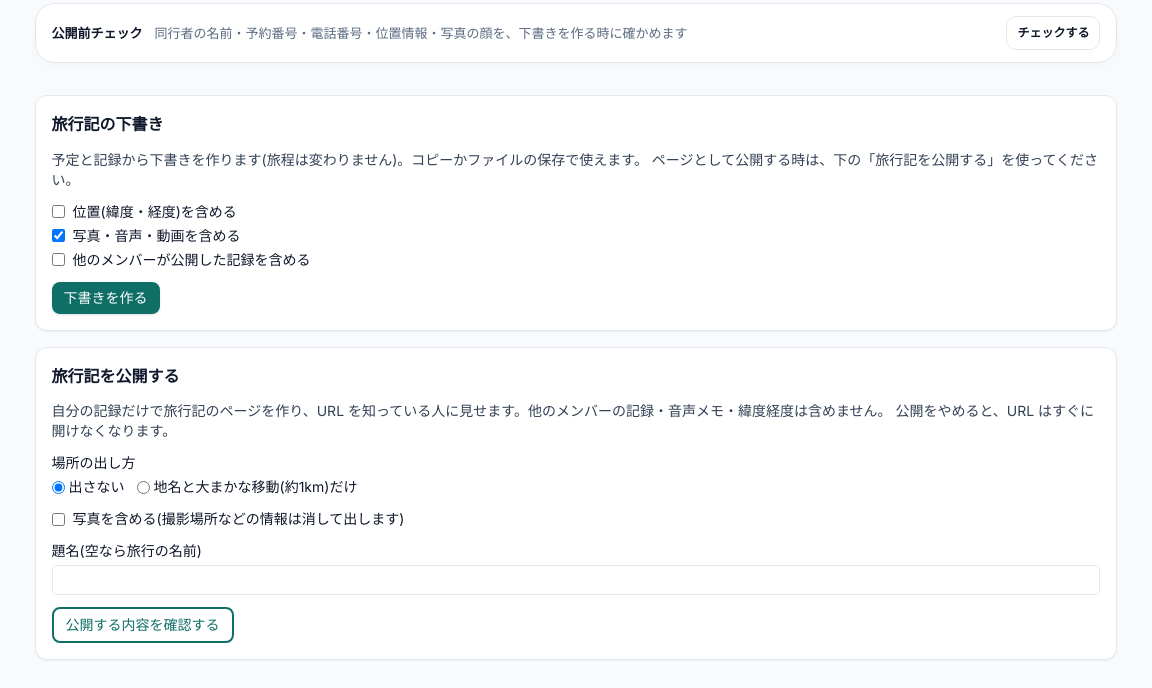
Test: MemoriesPage (Gate P12) › [Gate G6] 選び方を変えると確認をやり直す。公開できない理由を示す
(page scrolled)
Step 1. Click the button "公開する内容を確認する" → click(142, 625), box [52,607,234,643]
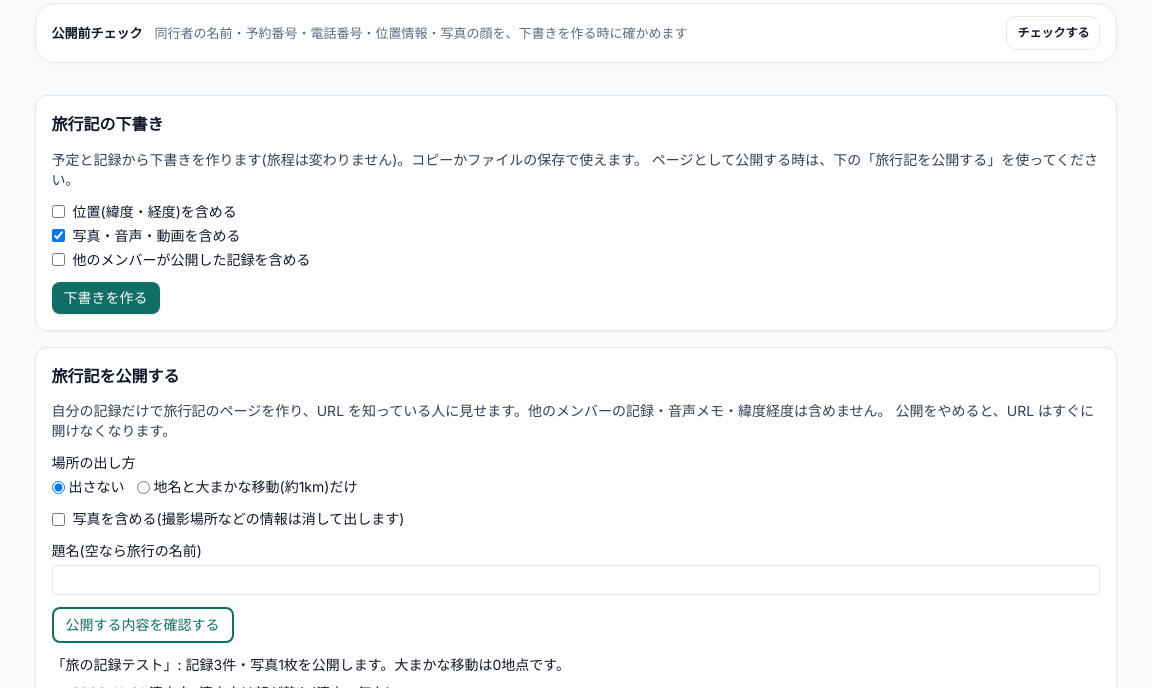
Step 2. Click the checkbox labelled "写真を含める(撮影場所などの情報は消して出します)" → click(58, 519), box [52,513,64,526]
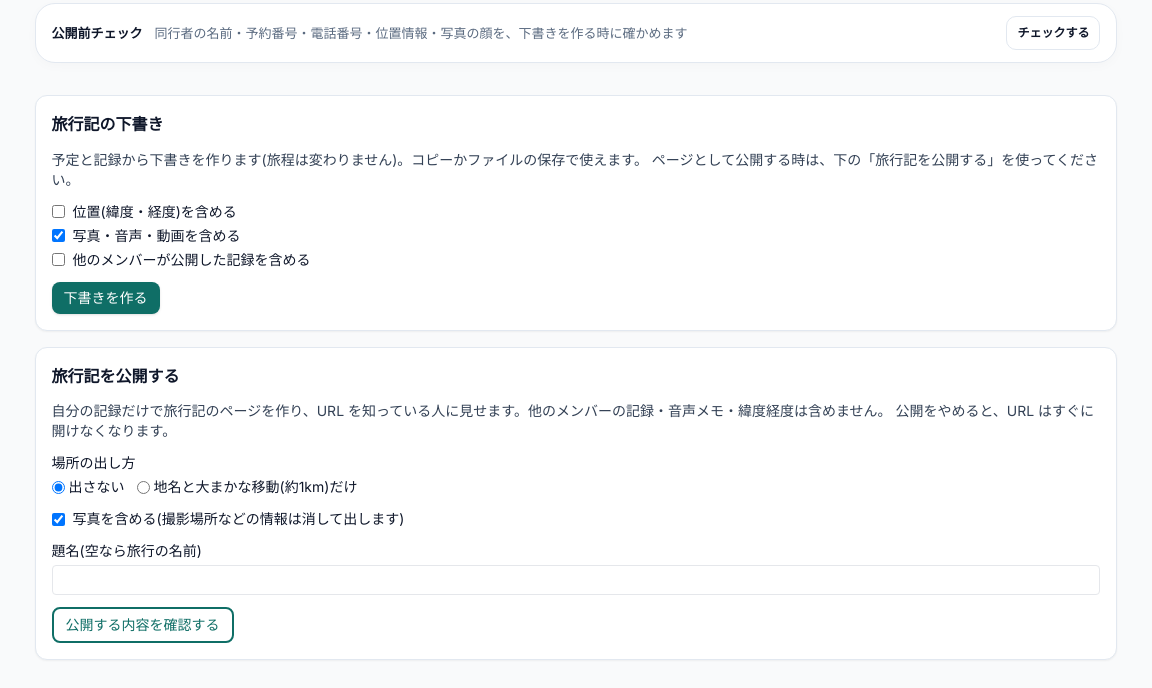
Step 3. Click the button "公開する内容を確認する" → click(142, 625), box [52,607,234,643]
(page scrolled)
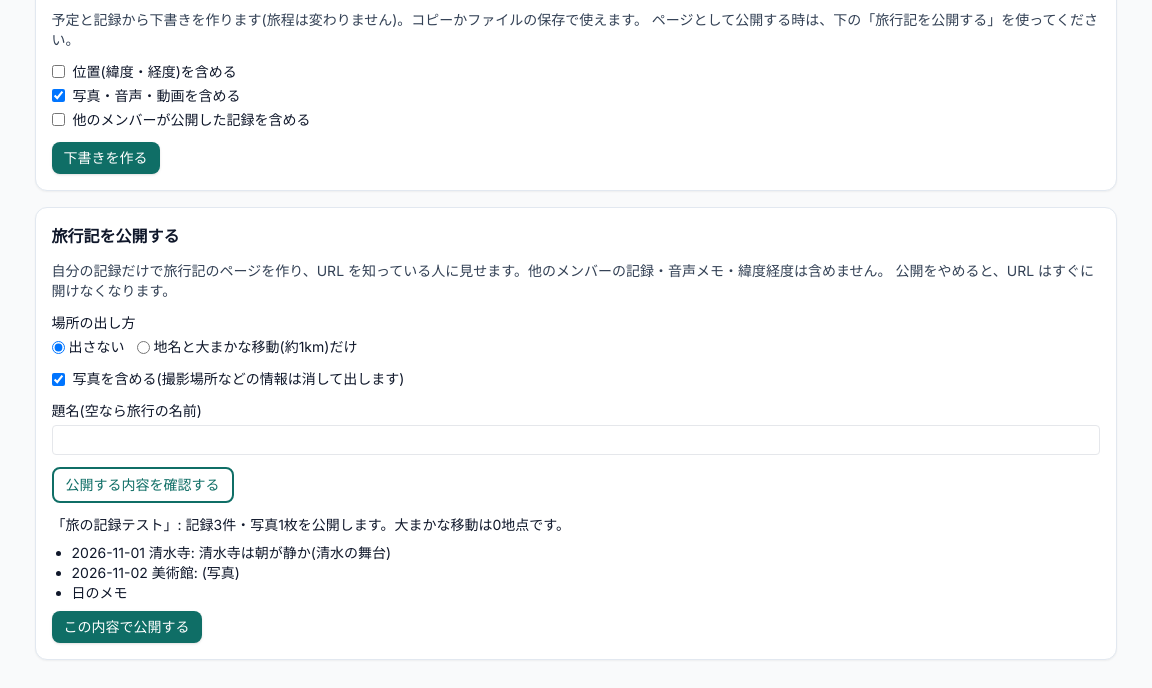
Step 4. Click the button "この内容で公開する" → click(126, 627), box [52,611,202,643]
(page scrolled)
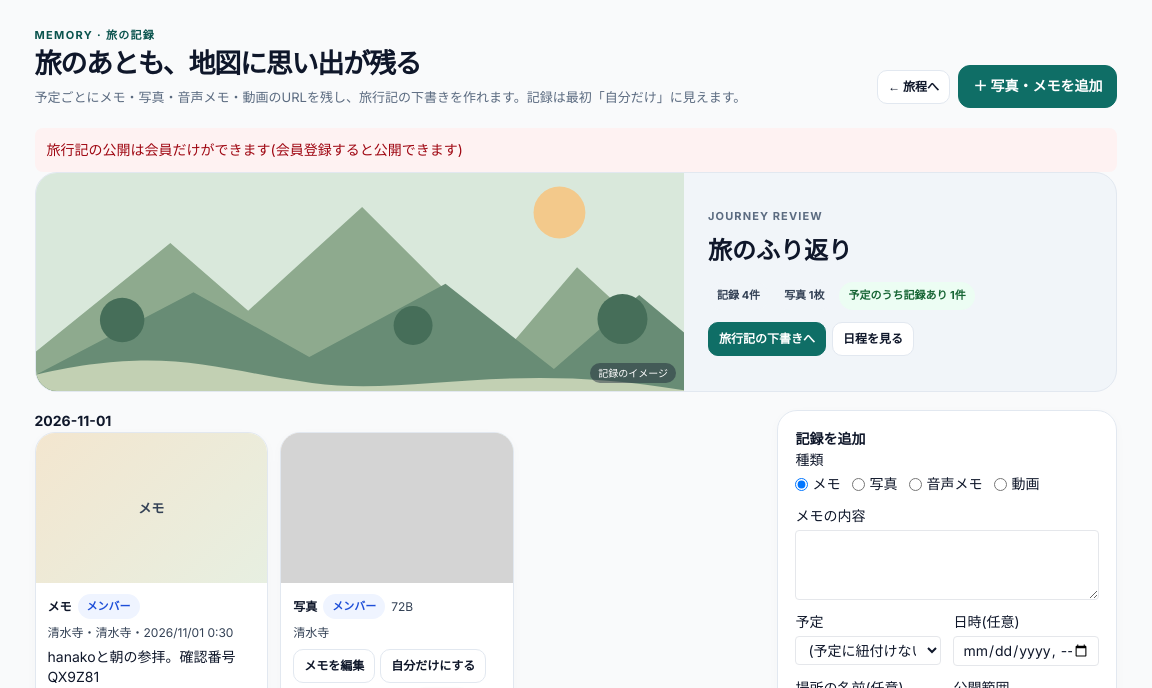
Check: the message shows "会員だけができます", box [46,141,463,158]
